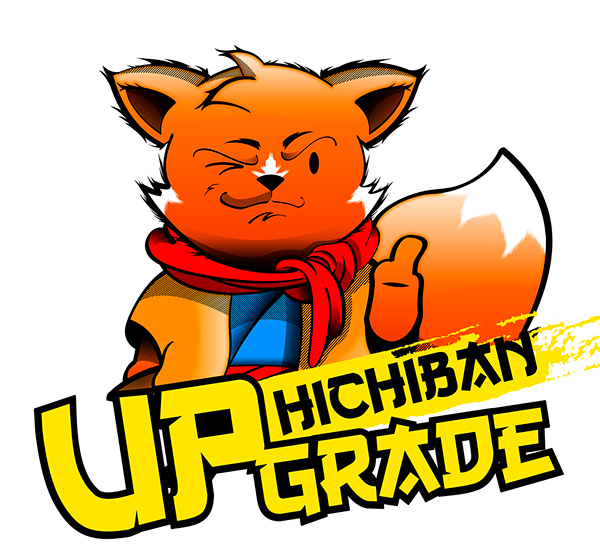cat: (88, 43, 571, 477)
